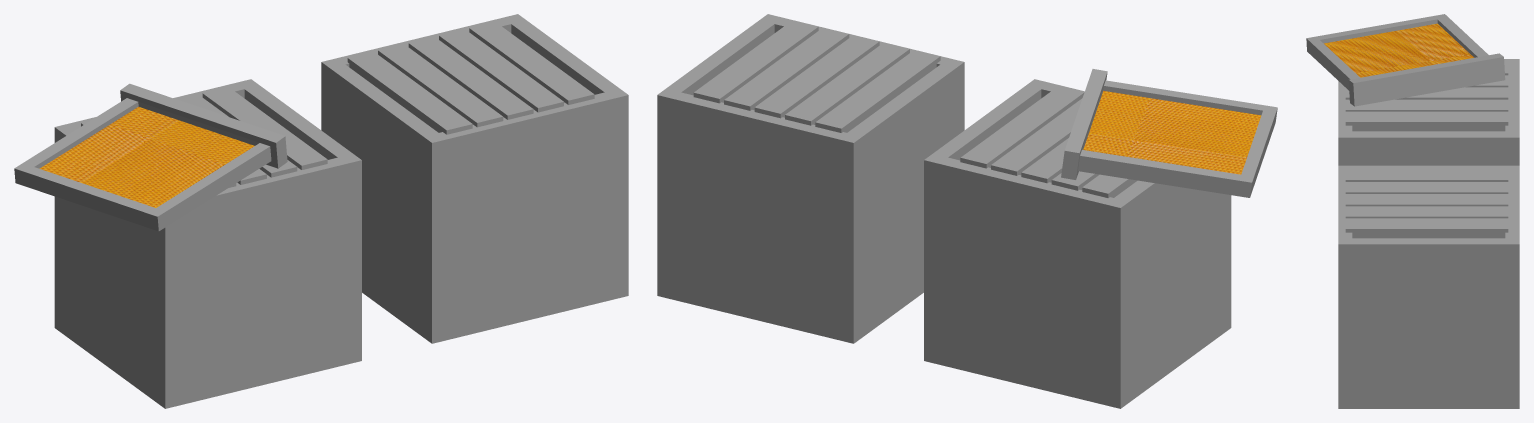
File: bees.fbx
The picture shows the model from 3 angles, left to right: view 1: azimuth 30°, elevation 25°; view 2: azimuth 150°, elevation 25°; view 3: azimuth 270°, elevation 25°; orthographic projection. The views are drawn at different scales.
Parts seen in each view (by area): view 1: honey_box, honey_box1, honey; view 2: honey_box, honey_box1, honey; view 3: honey_box, honey_box1, honey.
Boxes of the visible parts, x1,y1,x2,y2 form: honey_box: (321, 14, 628, 343); honey_box1: (54, 79, 361, 408); honey: (14, 83, 287, 231); honey_box: (657, 14, 964, 343); honey_box1: (924, 79, 1231, 408); honey: (1061, 69, 1277, 197); honey_box: (1338, 165, 1519, 408); honey_box1: (1338, 59, 1519, 165); honey: (1306, 14, 1505, 106).
Size of the model in its own units: 597 by 244 by 245.
Materials: 2 (1 with a texture image).
